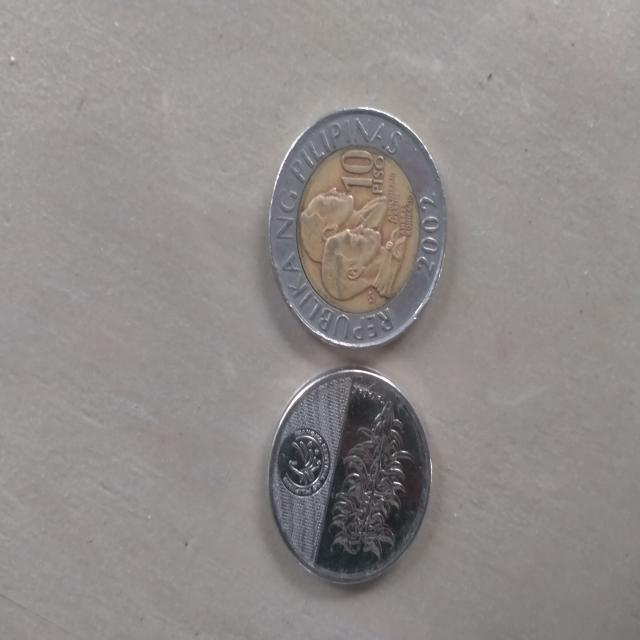10_Old_Front: (325, 142, 399, 208)
5_New_Back: (325, 390, 417, 574)
